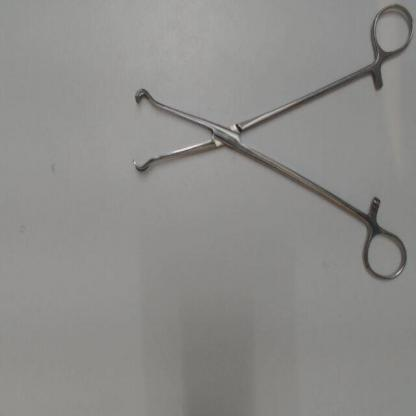8 Babcock Tissue Forceps: (123, 1, 414, 292)
